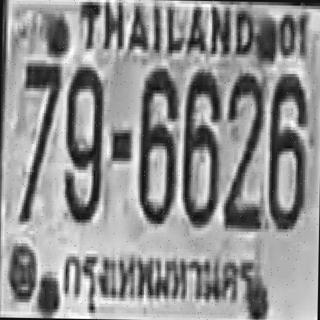N02: (224, 71, 264, 227)
N06: (266, 70, 307, 229), (138, 65, 178, 221), (180, 69, 220, 225)
N07: (18, 61, 61, 220)
N09: (62, 64, 102, 220)
P04: (58, 243, 257, 308)
